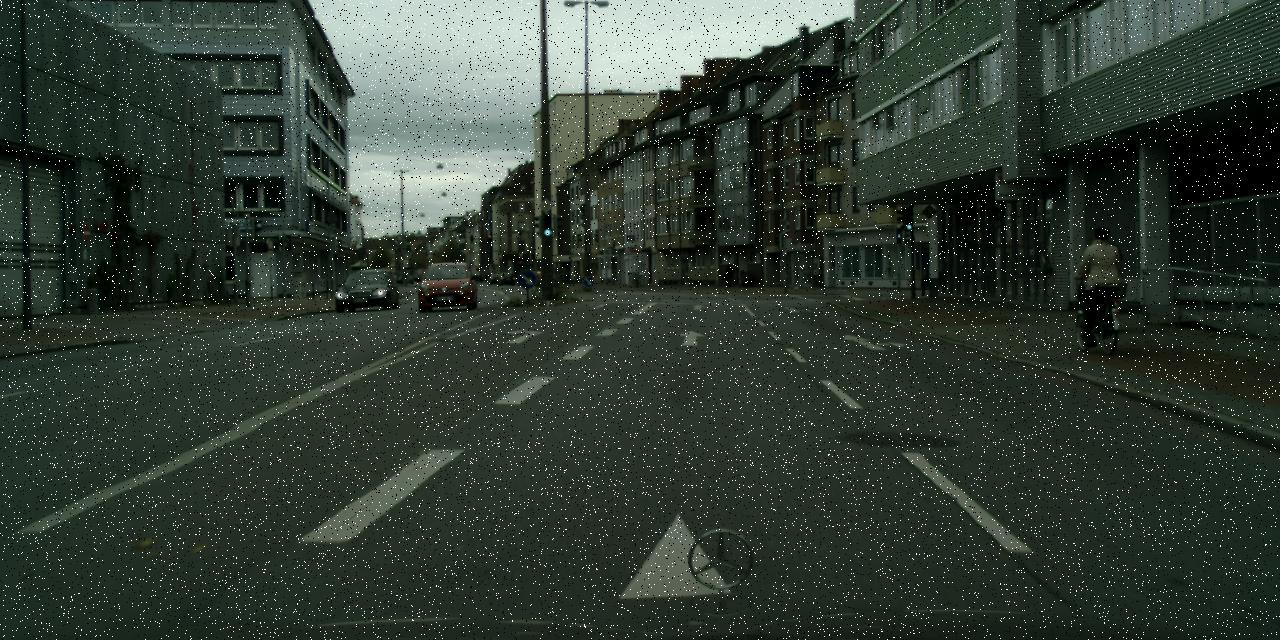ped: (1077, 226, 1122, 337), (723, 262, 733, 287)
